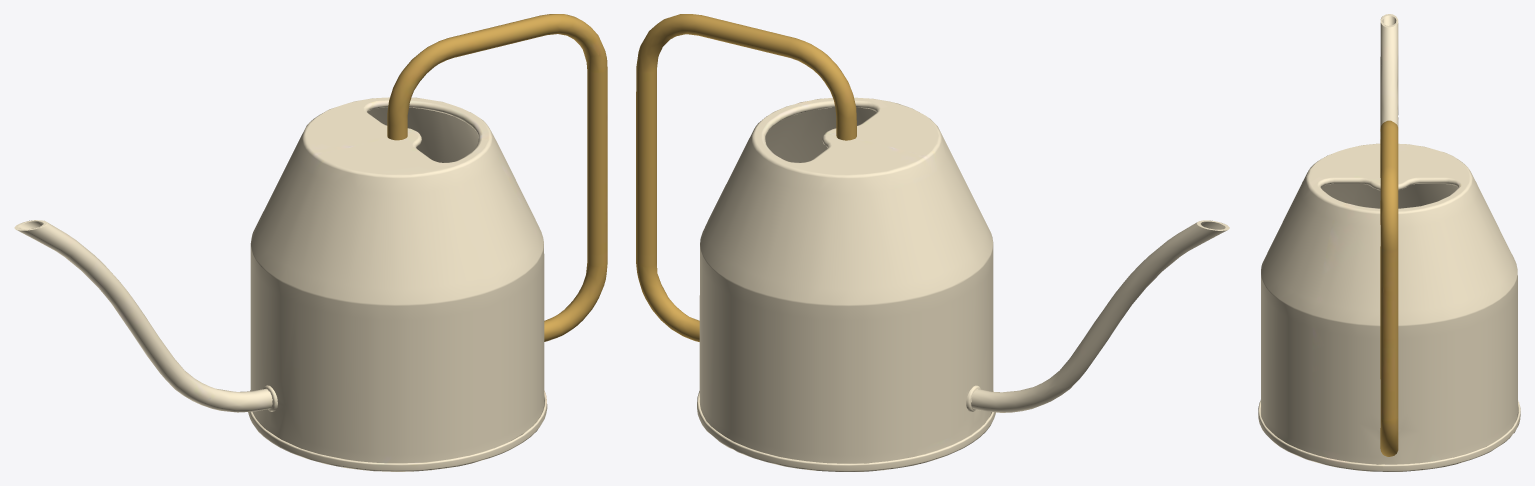
Rendered from 24 - VATTENKRASSE - 澆花壺，象牙白色金色，0.9 公升 IKEA 線上購物.glb.
3 renders of one model, left to right at view 1: azimuth 30°, elevation 25°; view 2: azimuth 150°, elevation 25°; view 3: azimuth 270°, elevation 25°, orthographic. The views are drawn at different scales.
Visible parts, largest first — view 1: 40394118-VATTENKRASSE001; view 2: 40394118-VATTENKRASSE001; view 3: 40394118-VATTENKRASSE001.
Part boxes in pixels (left/top/right/bottom): 40394118-VATTENKRASSE001: left=14, top=14, right=607, bottom=471; 40394118-VATTENKRASSE001: left=636, top=14, right=1229, bottom=471; 40394118-VATTENKRASSE001: left=1258, top=14, right=1520, bottom=471.
Size of the model in its own units: 0.2646 by 0.1529 by 0.1159.
Materials: 1 (1 with a texture image).
